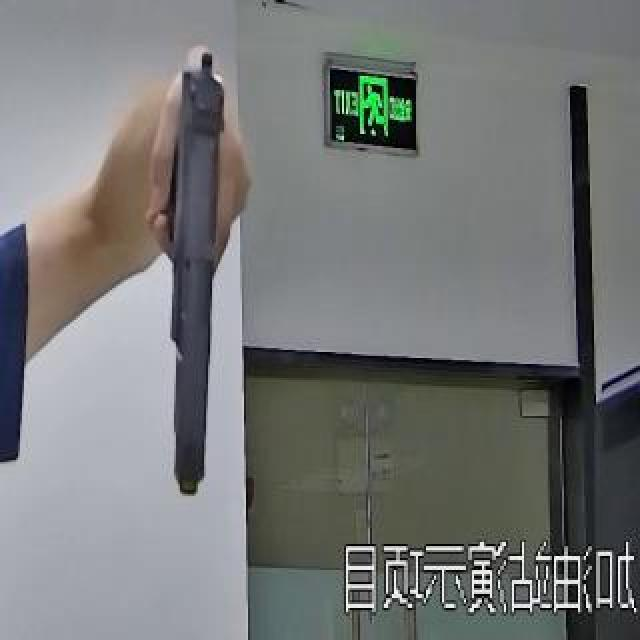Guns: (126, 21, 256, 517)
